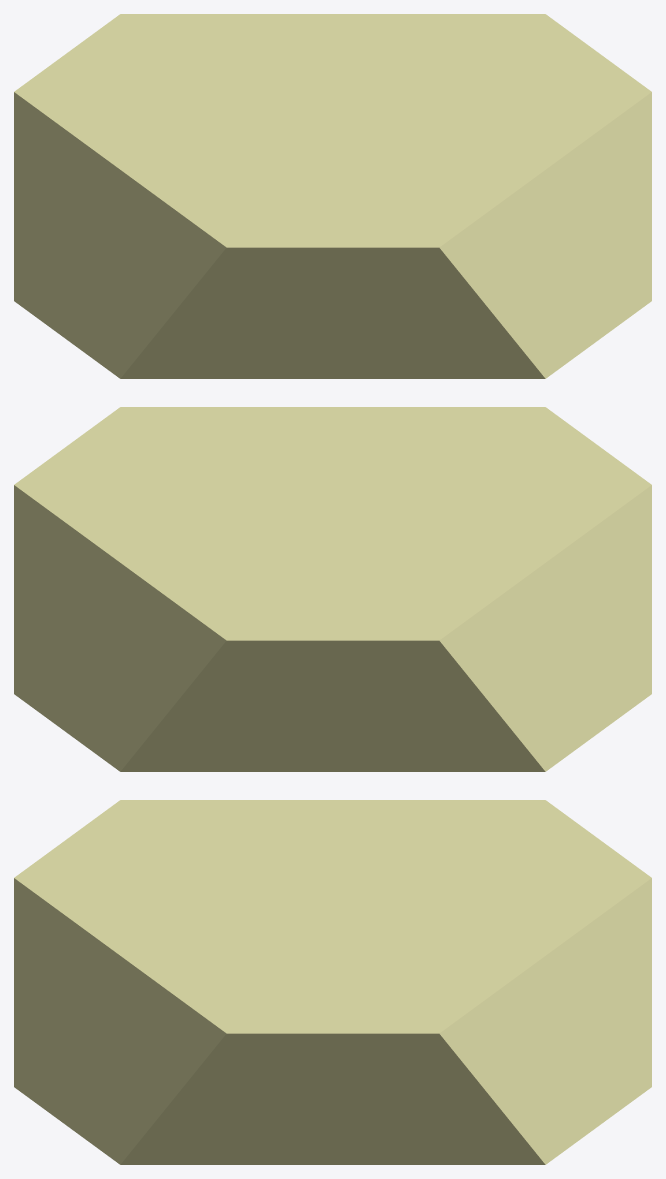
3 renders of one model, top to bottom at view 1: azimuth 30°, elevation 25°; view 2: azimuth 150°, elevation 25°; view 3: azimuth 270°, elevation 25°, orthographic.
Visible parts, largest first — view 1: Group1; view 2: Group1; view 3: Group1.
Part boxes in pixels (x1,y1,x2,y2): Group1: [14, 14, 651, 378]; Group1: [14, 407, 651, 771]; Group1: [14, 800, 651, 1164].
Bounding box in the file's own units: 11.55 × 3.26 × 12.
